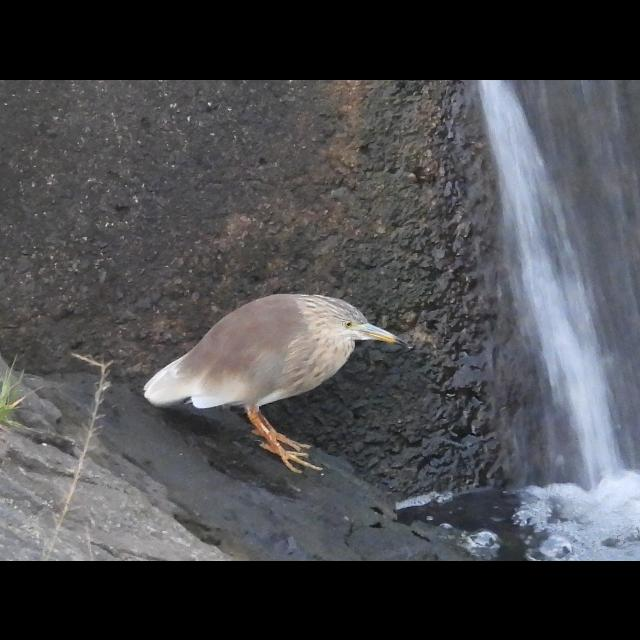heron: (130, 282, 406, 473)
